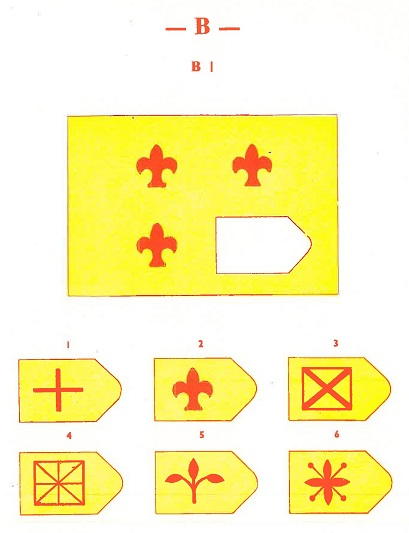Array 1: (14, 335, 126, 426)
Array 2: (149, 333, 259, 426)
Array 3: (283, 334, 395, 425)
Array 4: (14, 429, 128, 519)
Array 5: (149, 429, 260, 518)
Array 6: (284, 426, 398, 518)
Matrix 1: (132, 141, 181, 193)
Matrix 2: (227, 139, 276, 192)
Matrix 3: (130, 217, 183, 275)
Matrix Unknown: (210, 212, 316, 277)
